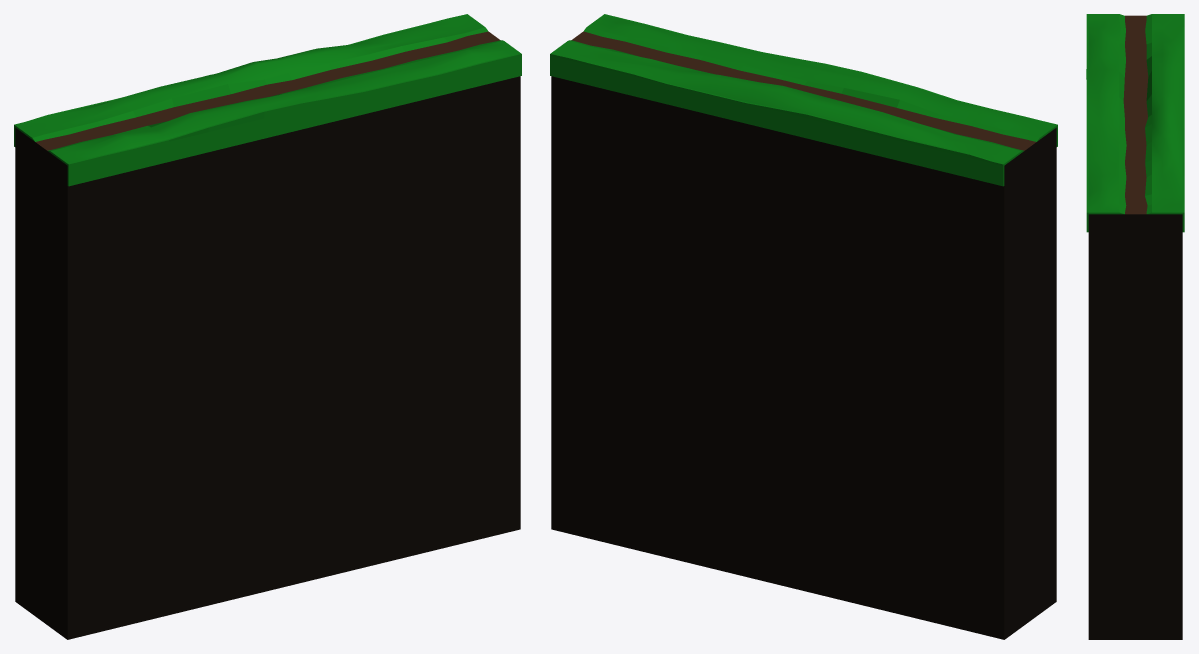
The model's file is blockFlat02.fbx.
3 renders of one model, left to right at view 1: azimuth 30°, elevation 25°; view 2: azimuth 150°, elevation 25°; view 3: azimuth 270°, elevation 25°, orthographic. The views are drawn at different scales.
Visible parts, largest first — view 1: Box001; view 2: Box001; view 3: Box001.
Part boxes in pixels (x1,y1,x2,y2): Box001: [14, 14, 521, 639]; Box001: [550, 14, 1057, 639]; Box001: [1086, 14, 1184, 639].
Bounding box in the file's own units: 50 × 10.45 × 51.56.
